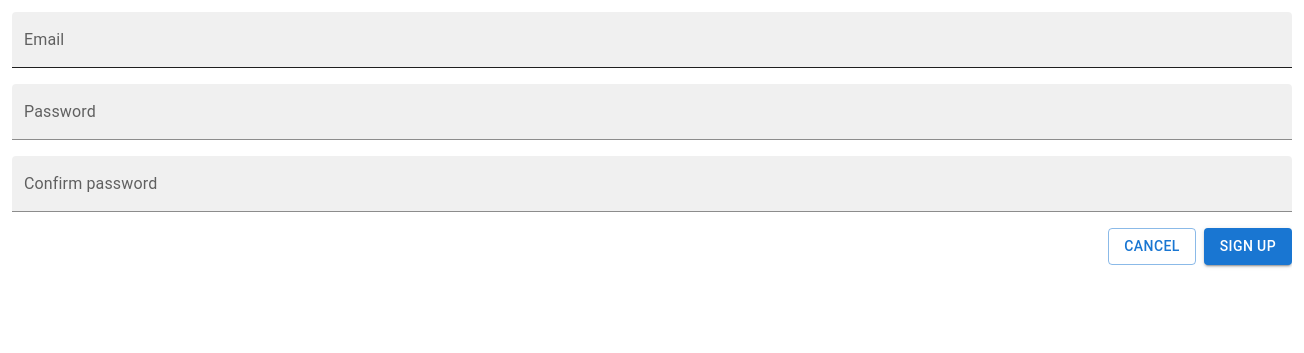
RegisterForm › should show validation errors when fields are empty
Click the button with test id "submit-button" at point(1248, 246), box x1=1204 y1=228 x2=1292 y2=264
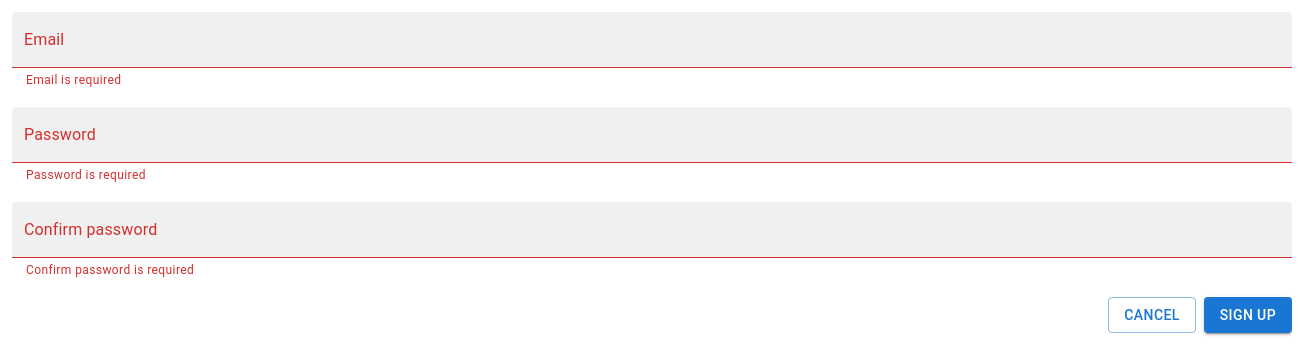
Check: the text "Email is required" is shown, box x1=26 y1=73 x2=121 y2=87
Check: the text "Password is required" is shown, box x1=26 y1=168 x2=146 y2=182
Check: the text "Confirm password is required" is shown, box x1=26 y1=263 x2=194 y2=277
